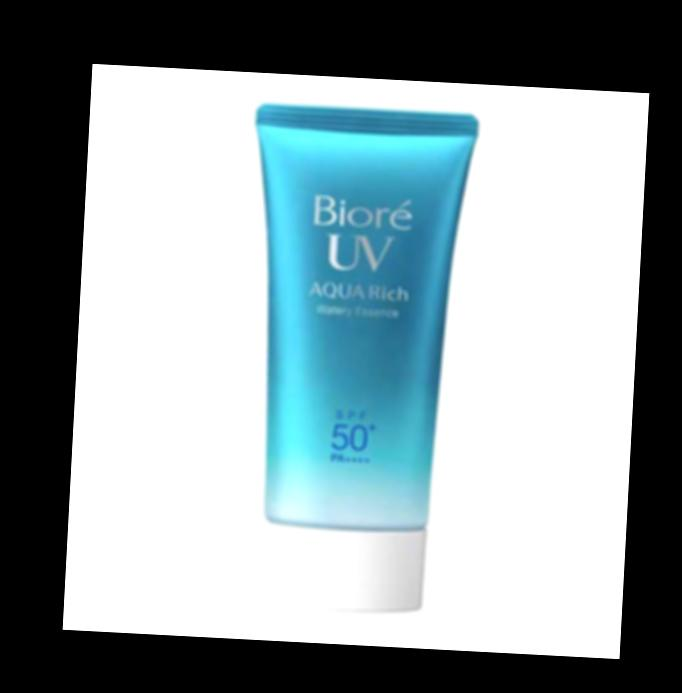cosmetic: (227, 100, 480, 617)
